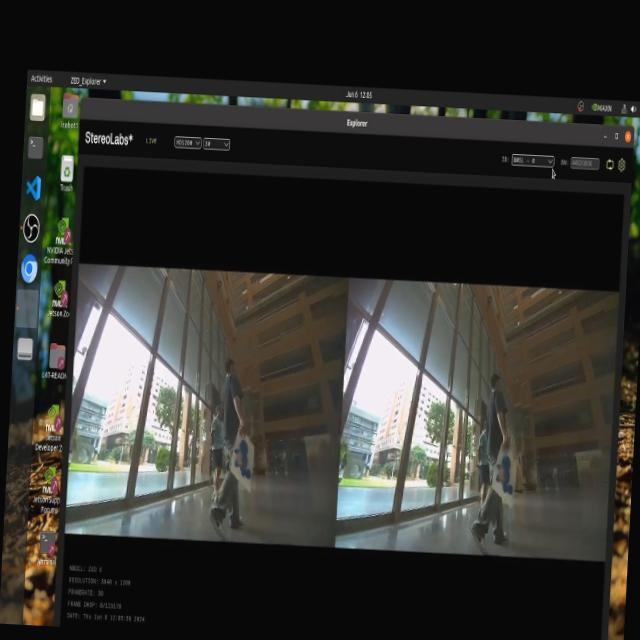blue: (228, 434, 258, 482), (496, 449, 516, 499)
